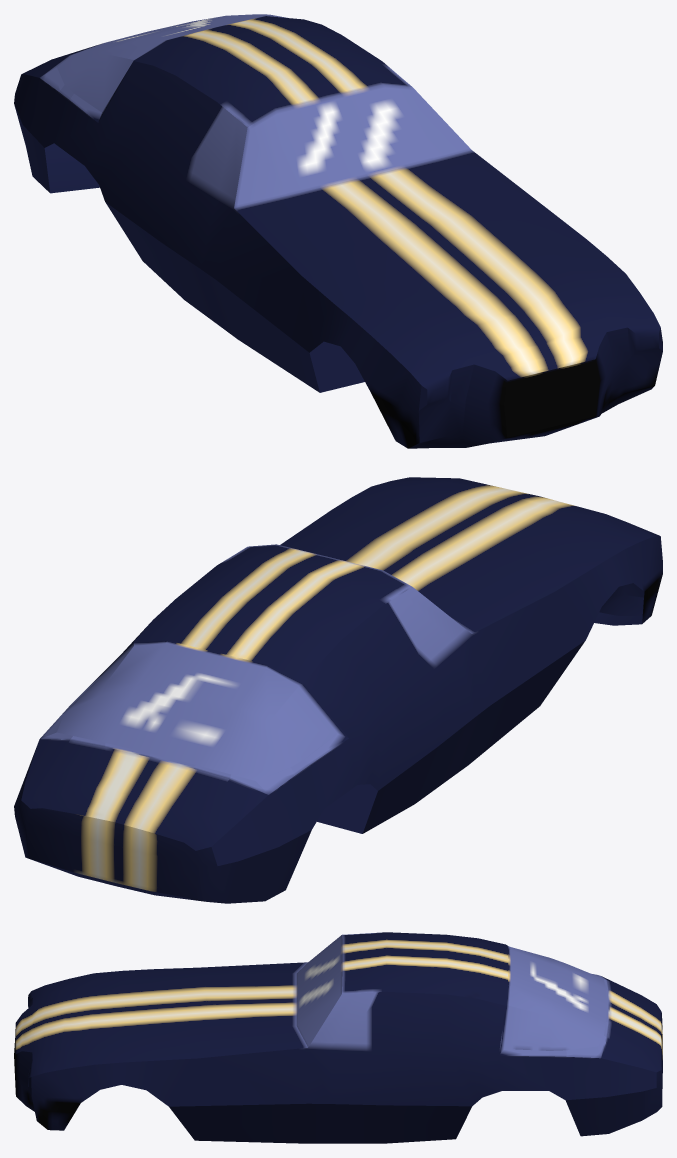
The model's file is Car.fbx.
3 views of the same model, one above another, from view 1: azimuth 30°, elevation 25°; view 2: azimuth 150°, elevation 25°; view 3: azimuth 270°, elevation 25° (orthographic). The views are drawn at different scales.
Parts seen in each view (by area): view 1: ferrarie.001; view 2: ferrarie.001; view 3: ferrarie.001.
Boxes of the visible parts, bbox=[...] form: ferrarie.001: bbox=[14, 14, 662, 448]; ferrarie.001: bbox=[14, 477, 662, 903]; ferrarie.001: bbox=[14, 932, 662, 1143].
Size of the model in its own units: 141 by 99.71 by 387.
